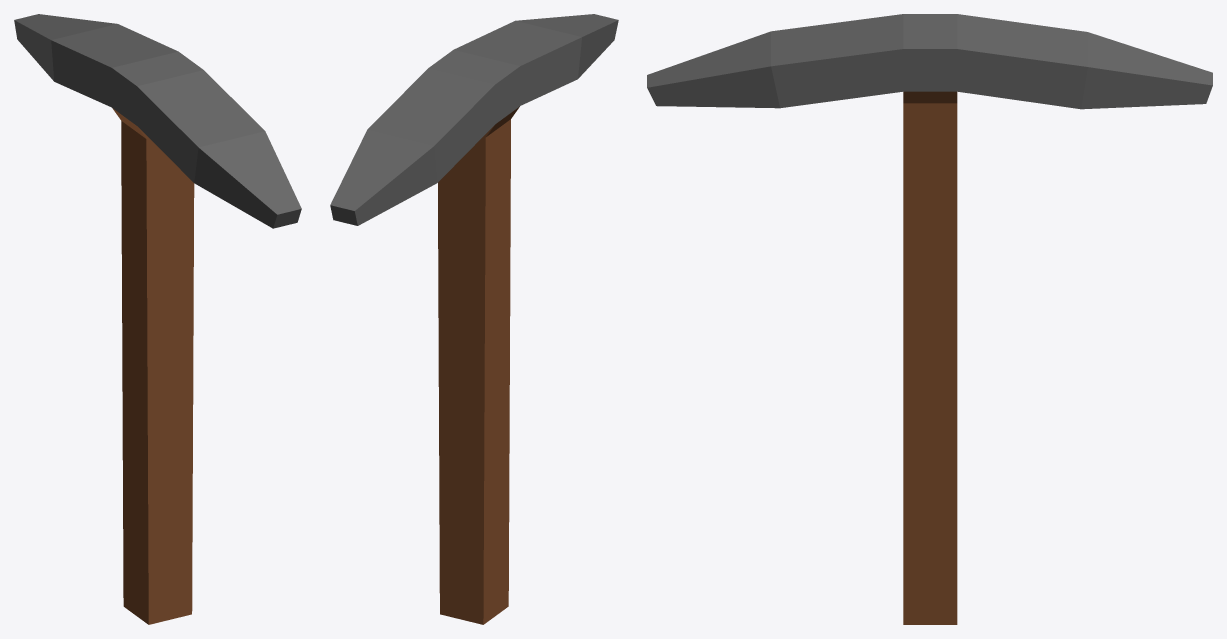
The model's file is Spitzhacke.fbx.
The picture shows the model from 3 angles, left to right: view 1: azimuth 30°, elevation 25°; view 2: azimuth 150°, elevation 25°; view 3: azimuth 270°, elevation 25°; orthographic projection. The views are drawn at different scales.
Visible parts, largest first — view 1: Cube; view 2: Cube; view 3: Cube.
Part boxes in pixels (<box>): Cube: <box>14,14,301,624</box>; Cube: <box>330,14,618,624</box>; Cube: <box>647,14,1212,624</box>.
Size of the model in its own units: 57.71 by 447 by 394.
